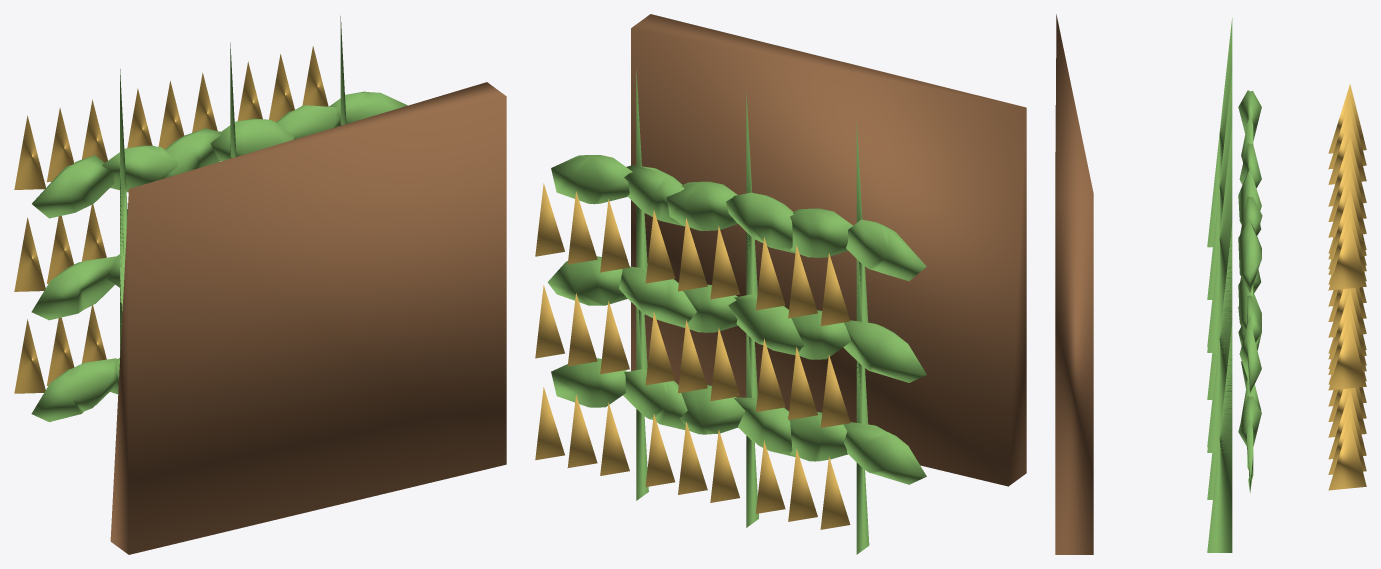
Rendered from wheat_ripe.glb.
3 renders of one model, left to right at view 1: azimuth 30°, elevation 25°; view 2: azimuth 150°, elevation 25°; view 3: azimuth 270°, elevation 25°, orthographic.
Visible parts, largest first — view 1: Soil, Leaf, Leaf.002, Leaf.004, Leaf.005, Leaf.011, Leaf.010, Leaf.016, Leaf.017, Grain.006, Grain.003, Grain (+13 smaller); view 2: Soil, Leaf, Leaf.002, Leaf.017, Leaf.004, Leaf.010, Leaf.014, Leaf.011, Leaf.013, Leaf.015, Leaf.008, Leaf.005 (+41 smaller); view 3: Soil, Stem.006, Stem.007, Stem.008, Grain.023, Grain.026, Grain.020, Stem.002, Stem.005, Leaf.017, Leaf.015, Grain.017 (+21 smaller).
Part boxes in pixels (left/top/right/bottom): Soil: left=110, top=82, right=506, bottom=554; Leaf: left=31, top=358, right=118, bottom=422; Leaf.002: left=31, top=256, right=116, bottom=320; Leaf.004: left=32, top=155, right=114, bottom=218; Leaf.005: left=102, top=145, right=178, bottom=192; Leaf.011: left=210, top=118, right=294, bottom=161; Leaf.010: left=164, top=128, right=221, bottom=178; Leaf.016: left=276, top=105, right=338, bottom=139; Leaf.017: left=329, top=91, right=407, bottom=126; Grain.006: left=14, top=115, right=45, bottom=189; Grain.003: left=14, top=217, right=45, bottom=291; Grain: left=14, top=319, right=45, bottom=393; Soil: left=631, top=14, right=1026, bottom=486; Leaf: left=843, top=422, right=926, bottom=484; Leaf.002: left=843, top=320, right=926, bottom=382; Leaf.017: left=551, top=155, right=632, bottom=204; Leaf.004: left=846, top=219, right=926, bottom=280; Leaf.010: left=726, top=192, right=795, bottom=253; Leaf.014: left=619, top=266, right=696, bottom=327; Leaf.011: left=666, top=181, right=737, bottom=230; Leaf.013: left=551, top=358, right=627, bottom=407; Leaf.015: left=547, top=256, right=627, bottom=305; Leaf.008: left=728, top=294, right=804, bottom=355; Leaf.005: left=790, top=208, right=852, bottom=257; Soil: left=1055, top=14, right=1093, bottom=554; Stem.006: left=1207, top=326, right=1232, bottom=552; Stem.007: left=1207, top=223, right=1232, bottom=452; Stem.008: left=1207, top=123, right=1232, bottom=352; Grain.023: left=1328, top=320, right=1366, bottom=390; Grain.026: left=1328, top=220, right=1366, bottom=290; Grain.020: left=1328, top=420, right=1366, bottom=490; Stem.002: left=1207, top=18, right=1232, bottom=247; Stem.005: left=1207, top=70, right=1232, bottom=299; Leaf.017: left=1238, top=219, right=1261, bottom=293; Leaf.015: left=1239, top=315, right=1261, bottom=393; Grain.017: left=1328, top=167, right=1366, bottom=237.
Size of the model in its own units: 1.17 by 1.29 by 0.8473.
